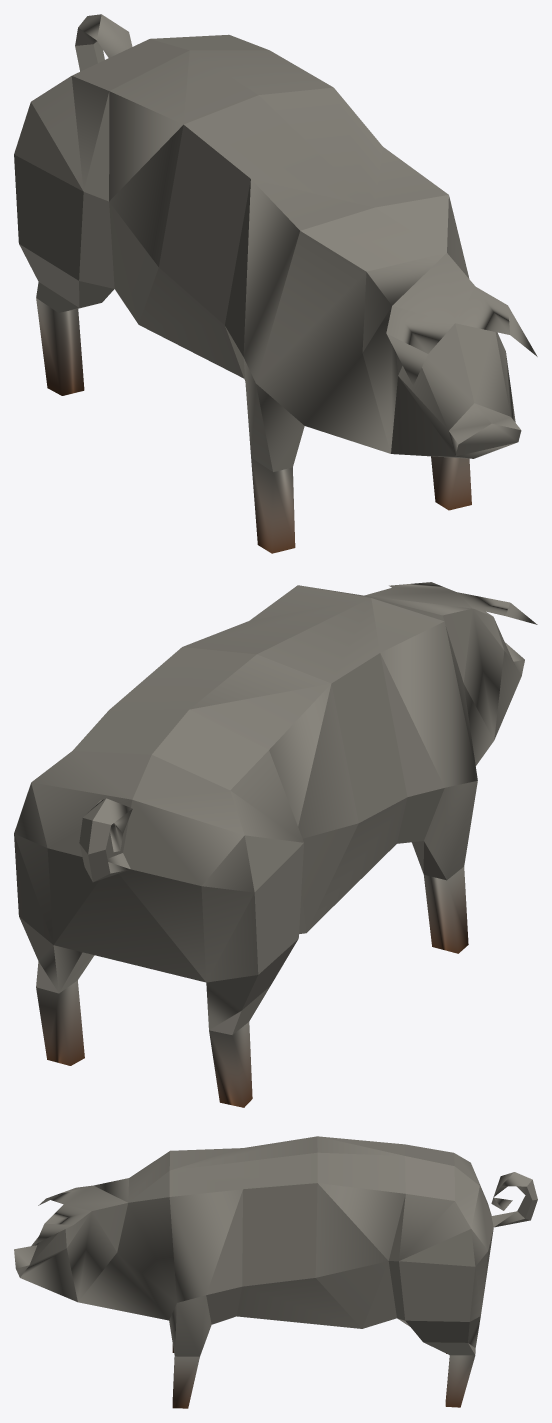
File: cc0-pig-lod1.glb
The picture shows the model from 3 angles, top to bottom: view 1: azimuth 30°, elevation 25°; view 2: azimuth 150°, elevation 25°; view 3: azimuth 270°, elevation 25°; orthographic projection. The views are drawn at different scales.
Parts seen in each view (by area): view 1: part_0; view 2: part_0; view 3: part_0.
Part boxes in pixels (x1,y1,x2,y2): part_0: (14,14,537,553); part_0: (14,582,537,1107); part_0: (14,1136,537,1408).
Size of the model in its own units: 3.3 by 4.58 by 9.68.
